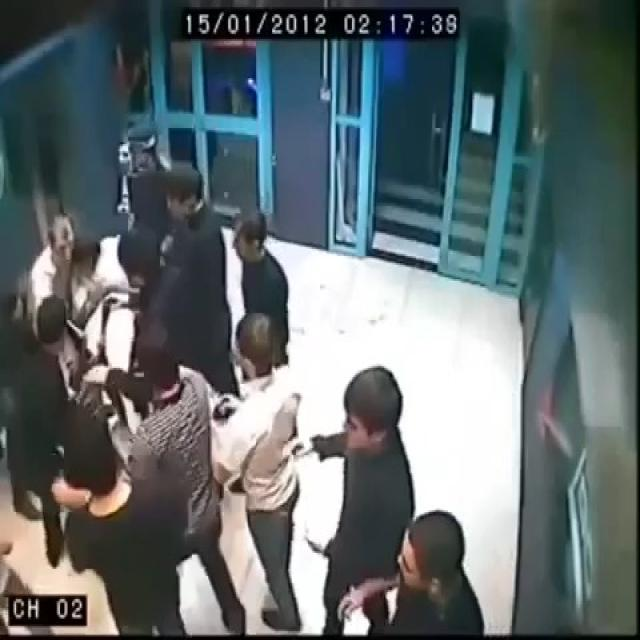fight: (27, 204, 120, 333)
